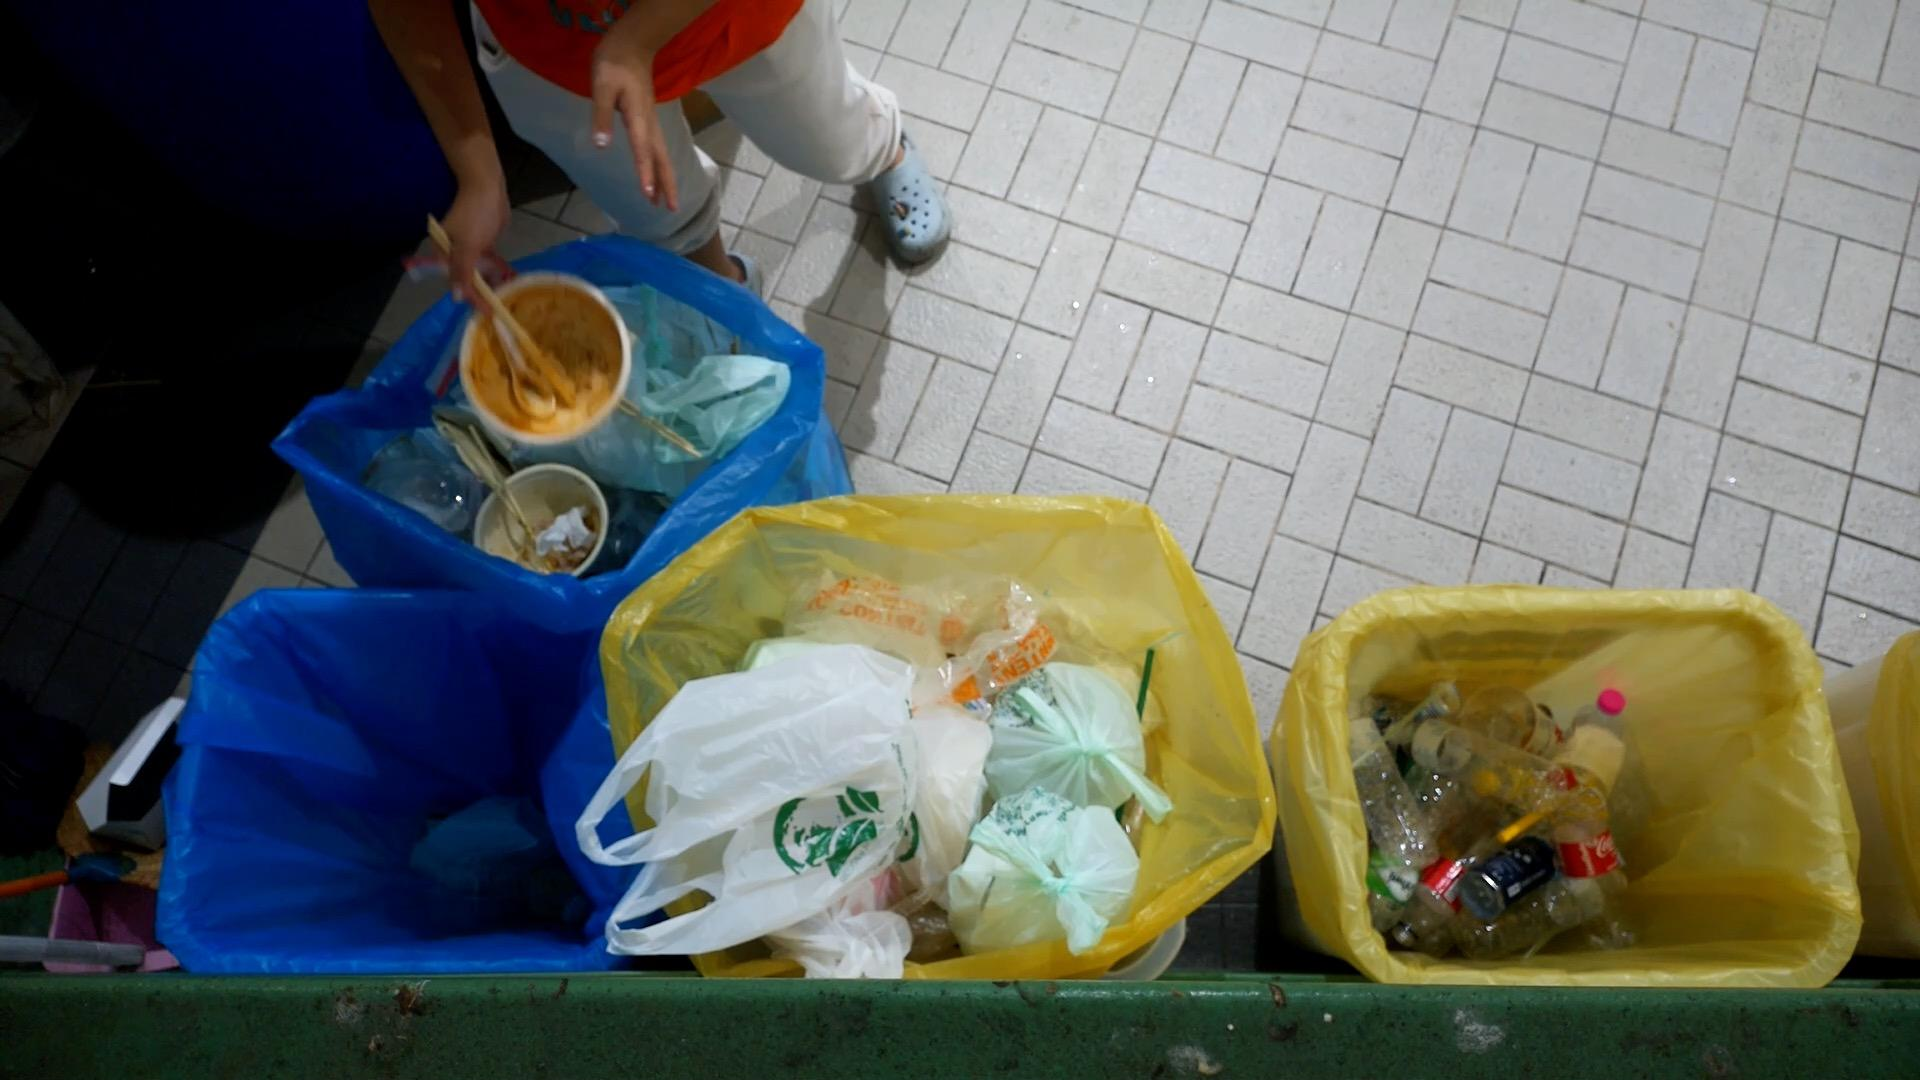can: (1456, 829, 1560, 926)
dirty food container: (472, 462, 611, 576)
filled plastic bag: (576, 640, 918, 957), (945, 786, 1142, 960), (984, 665, 1178, 824)
food container: (458, 274, 634, 446)
plastic bottle: (1385, 716, 1564, 816), (1552, 767, 1644, 949), (1350, 704, 1440, 870)
plastic cutlery: (492, 314, 558, 419)
sticks: (426, 214, 578, 406), (446, 419, 538, 553)
tissue paper: (534, 504, 597, 558)
